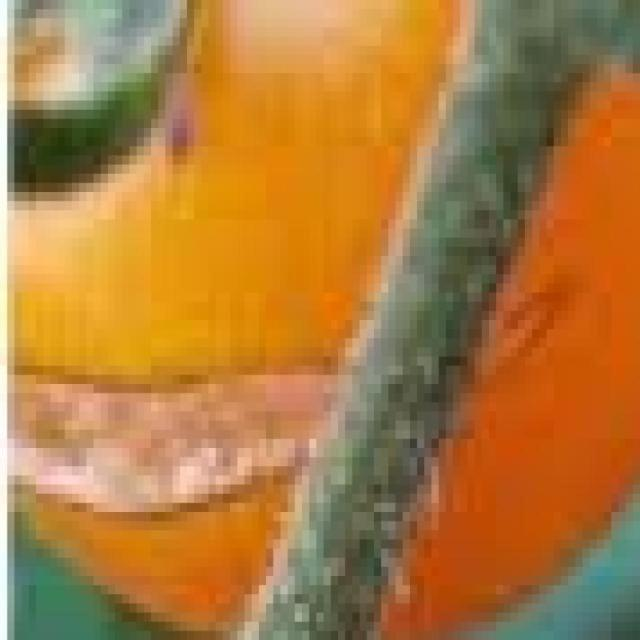Cracking Fruit: (0, 211, 385, 349)
